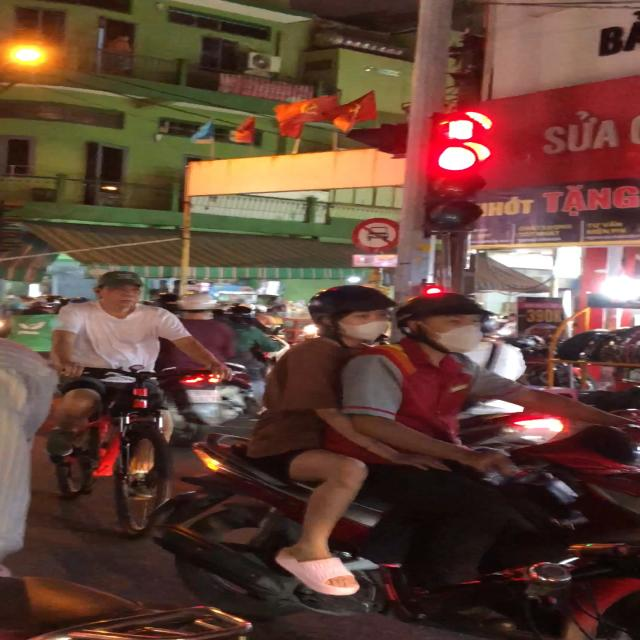Bien bao cam xe oto: (351, 217, 403, 255)
